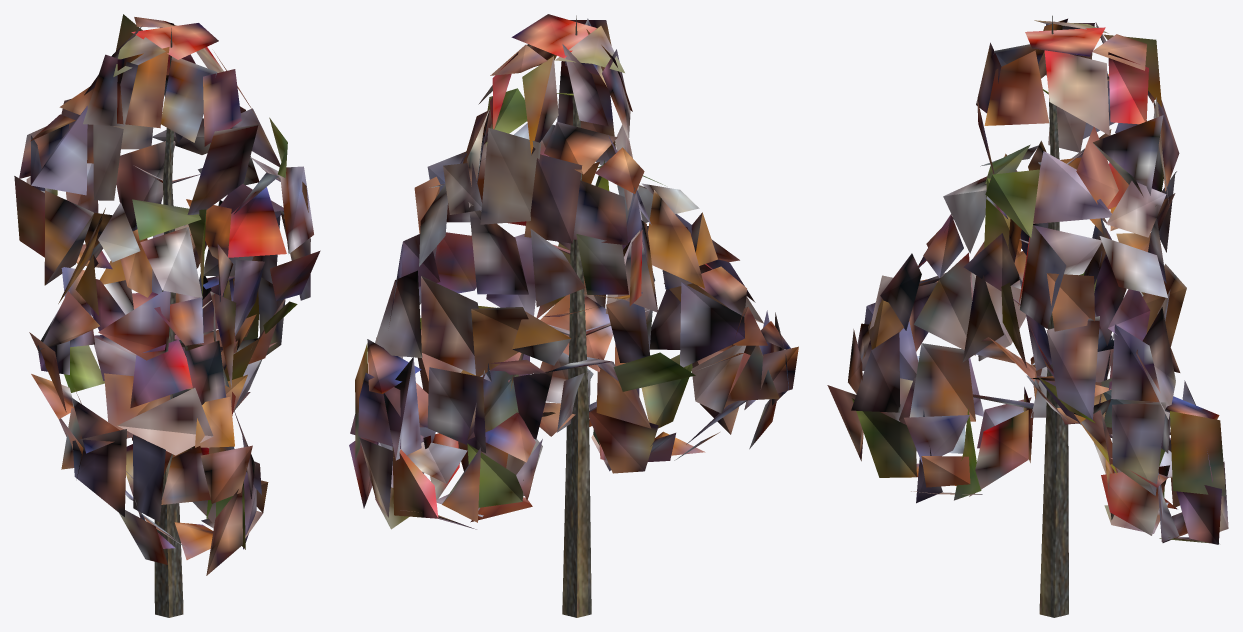
File: Tree10.fbx
3 views of the same model, side by side, from view 1: azimuth 30°, elevation 25°; view 2: azimuth 150°, elevation 25°; view 3: azimuth 270°, elevation 25° (orthographic). The views are drawn at different scales.
Parts seen in each view (by area): view 1: Tree10; view 2: Tree10; view 3: Tree10.
Part boxes in pixels (left/top/right/bottom): Tree10: left=14, top=14, right=320, bottom=617; Tree10: left=349, top=14, right=798, bottom=617; Tree10: left=827, top=15, right=1228, bottom=617.
Bounding box in the file's own units: 881 × 1609 × 979.
